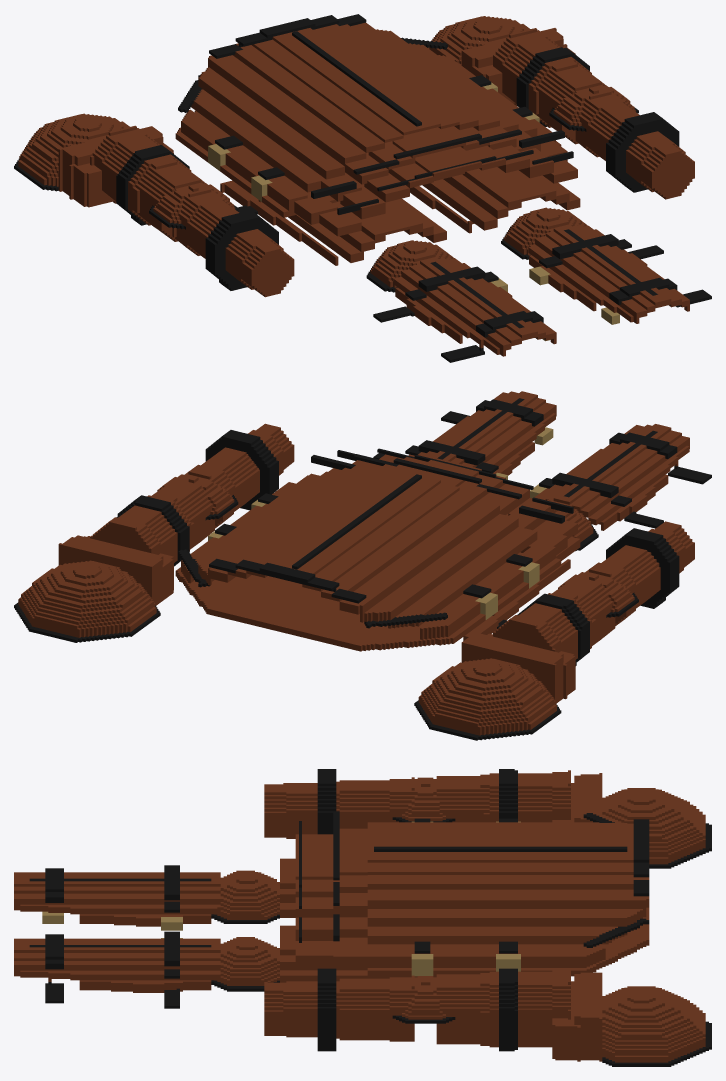
Rendered from armor_larmor.glb.
The picture shows the model from 3 angles, top to bottom: view 1: azimuth 30°, elevation 25°; view 2: azimuth 150°, elevation 25°; view 3: azimuth 270°, elevation 25°; orthographic projection.
Visible parts, largest first — view 1: armor_larmor:compound; view 2: armor_larmor:compound; view 3: armor_larmor:compound.
Part boxes in pixels (<box>): armor_larmor:compound: <box>14,14,711,362</box>; armor_larmor:compound: <box>14,391,711,740</box>; armor_larmor:compound: <box>14,769,711,1066</box>.
Size of the model in its own units: 0.776 by 0.136 by 0.892.
